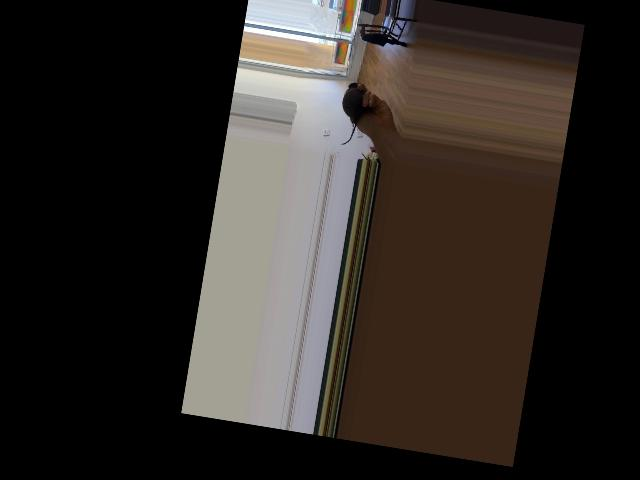beet: (336, 79, 367, 146)
